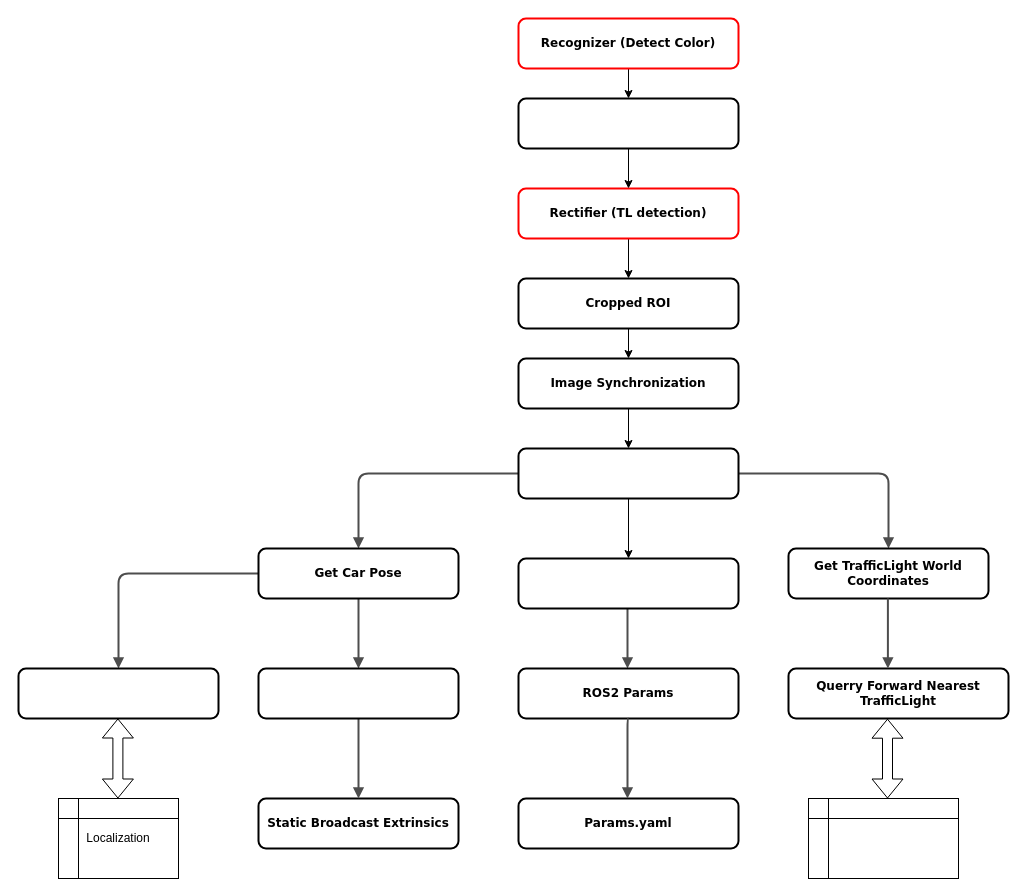
Some shapes in this 1026 by 896 pixel diagram are drawn without their labels. The shapes that lost their labels are listed below. From the top down, each one's centre as x and y in pixels, then its label:
pixel 628 123: Select Traffic light
pixel 628 473: TrafficLight Projection
pixel 628 583: Load Camera Calibration Matrix
pixel 118 693: Get World-Localization Dynamic Transform
pixel 358 693: Get Lidar-Novatel Static Transform
pixel 883 838: HD-Map/Routing
